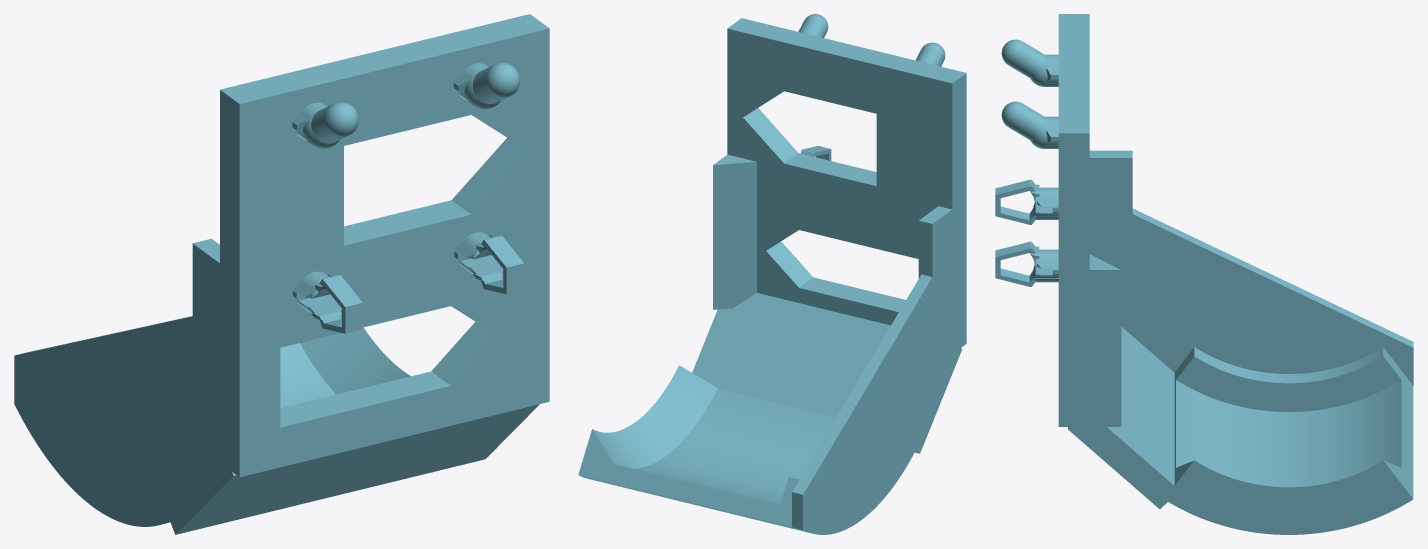
The model's file is part-solder-spool-storage__v14__right-cheek__fit-pf02c9-hoop5__installed.glb.
3 views of the same model, side by side, from view 1: azimuth 30°, elevation 25°; view 2: azimuth 150°, elevation 25°; view 3: azimuth 270°, elevation 25° (orthographic). The views are drawn at different scales.
Parts seen in each view (by area): view 1: part-solder-spool-storage__v14__right-cheek__fit-pf02c9-hoop; view 2: part-solder-spool-storage__v14__right-cheek__fit-pf02c9-hoop; view 3: part-solder-spool-storage__v14__right-cheek__fit-pf02c9-hoop.
Part boxes in pixels (<box>): part-solder-spool-storage__v14__right-cheek__fit-pf02c9-hoop: <box>14,14,549,534</box>; part-solder-spool-storage__v14__right-cheek__fit-pf02c9-hoop: <box>578,14,966,534</box>; part-solder-spool-storage__v14__right-cheek__fit-pf02c9-hoop: <box>995,14,1413,534</box>.
Size of the model in its own units: 0.0488 by 0.077 by 0.0724.
